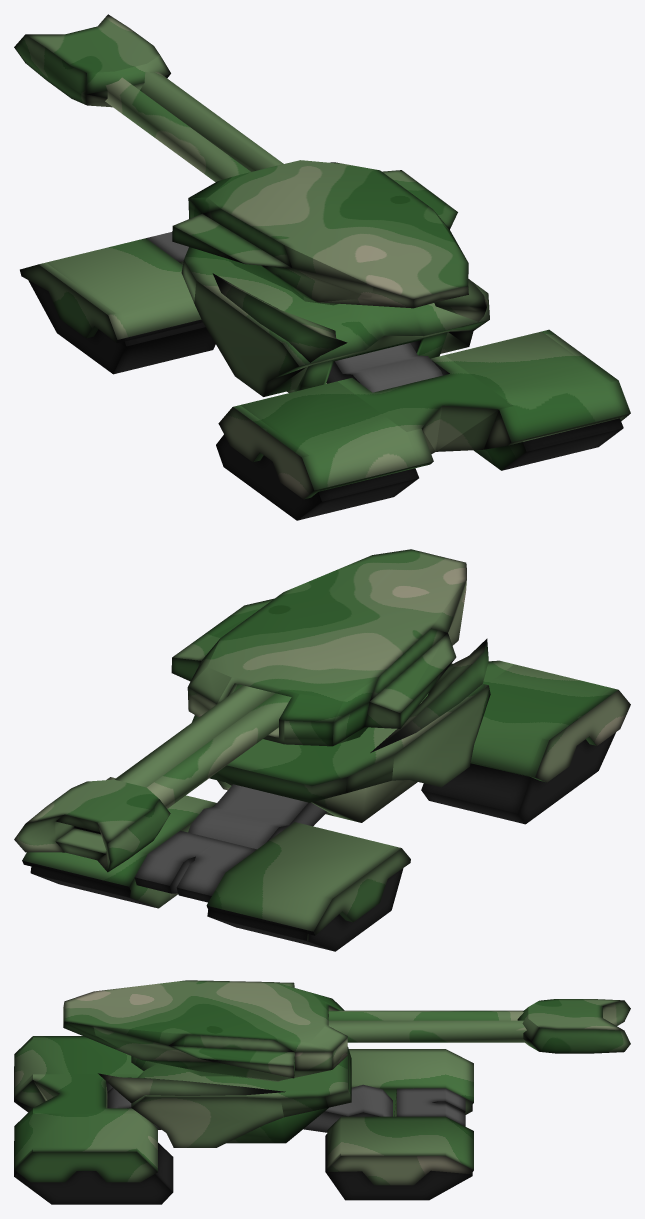
File: Tank.fbx
3 views of the same model, one above another, from view 1: azimuth 30°, elevation 25°; view 2: azimuth 150°, elevation 25°; view 3: azimuth 270°, elevation 25° (orthographic). The views are drawn at different scales.
Parts seen in each view (by area): view 1: Base, Turret; view 2: Base, Turret; view 3: Base, Turret.
Part boxes in pixels (x1,y1,x2,y2): Base: [20, 232, 630, 520]; Turret: [14, 14, 468, 308]; Base: [22, 638, 630, 951]; Turret: [14, 549, 466, 872]; Base: [14, 1036, 473, 1204]; Turret: [63, 980, 630, 1081].
Size of the model in its own units: 7.42 by 4.35 by 16.71.
Materials: 2 (2 with a texture image).
